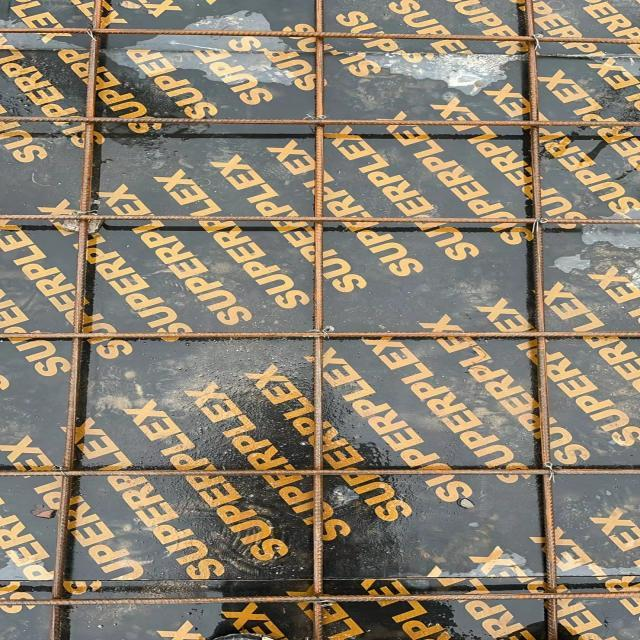ribbed bar: (46, 0, 104, 639), (524, 0, 559, 639), (0, 27, 639, 45), (0, 590, 639, 606), (310, 0, 325, 639), (0, 115, 639, 126), (0, 214, 639, 224), (0, 467, 639, 477), (0, 331, 639, 338)
